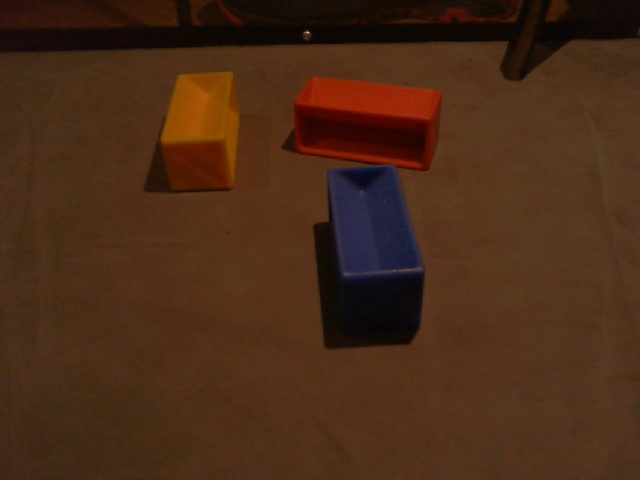BlueSample: (324, 164, 427, 340)
RedSample: (290, 72, 442, 176)
YellowSample: (157, 70, 243, 193)
